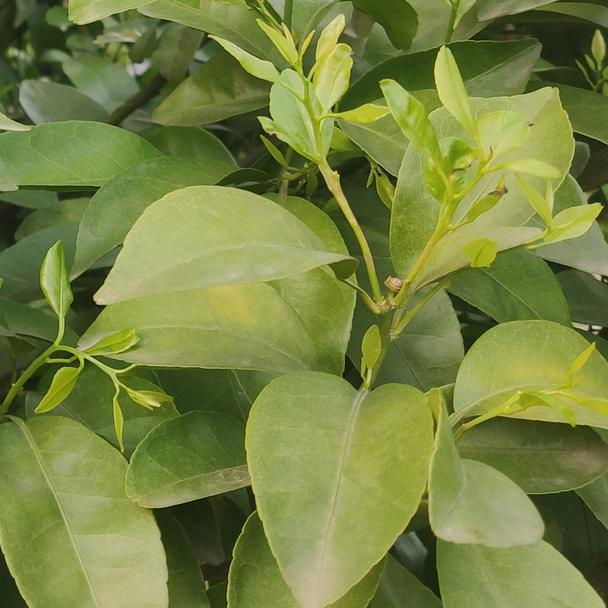shoot: (405, 72, 552, 252), (20, 282, 168, 445), (245, 19, 393, 182)
